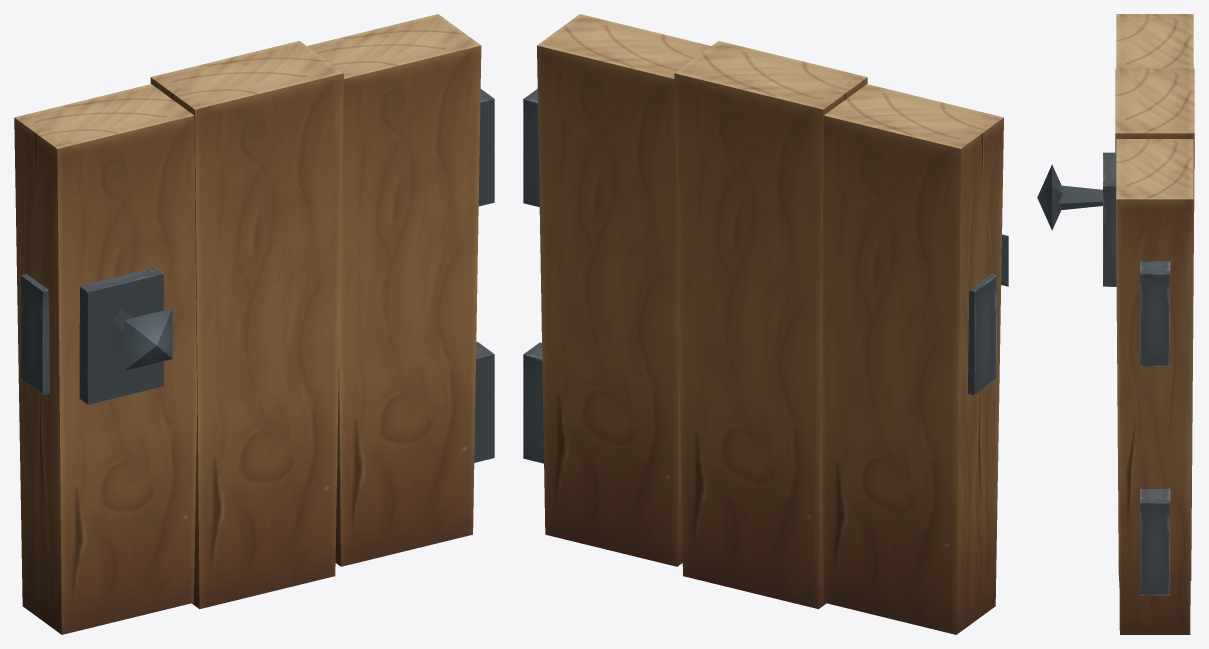
Rendered from gates_02.fbx.
3 views of the same model, side by side, from view 1: azimuth 30°, elevation 25°; view 2: azimuth 150°, elevation 25°; view 3: azimuth 270°, elevation 25° (orthographic). The views are drawn at different scales.
Visible parts, largest first — view 1: gates_02:Mesh; view 2: gates_02:Mesh; view 3: gates_02:Mesh.
Boxes of the visible parts, <box> form: gates_02:Mesh: <box>14,14,494,634</box>; gates_02:Mesh: <box>523,14,1008,634</box>; gates_02:Mesh: <box>1037,14,1194,634</box>.
Size of the model in its own units: 2.69 by 2.85 by 0.9029.
